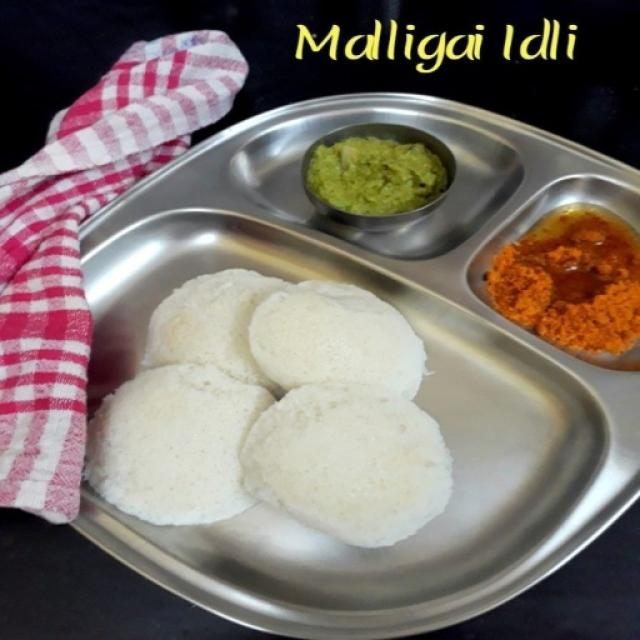GREEN CHUTNEY: (306, 138, 446, 215)
IDLI: (81, 268, 453, 553)
PODI: (474, 208, 639, 360)
